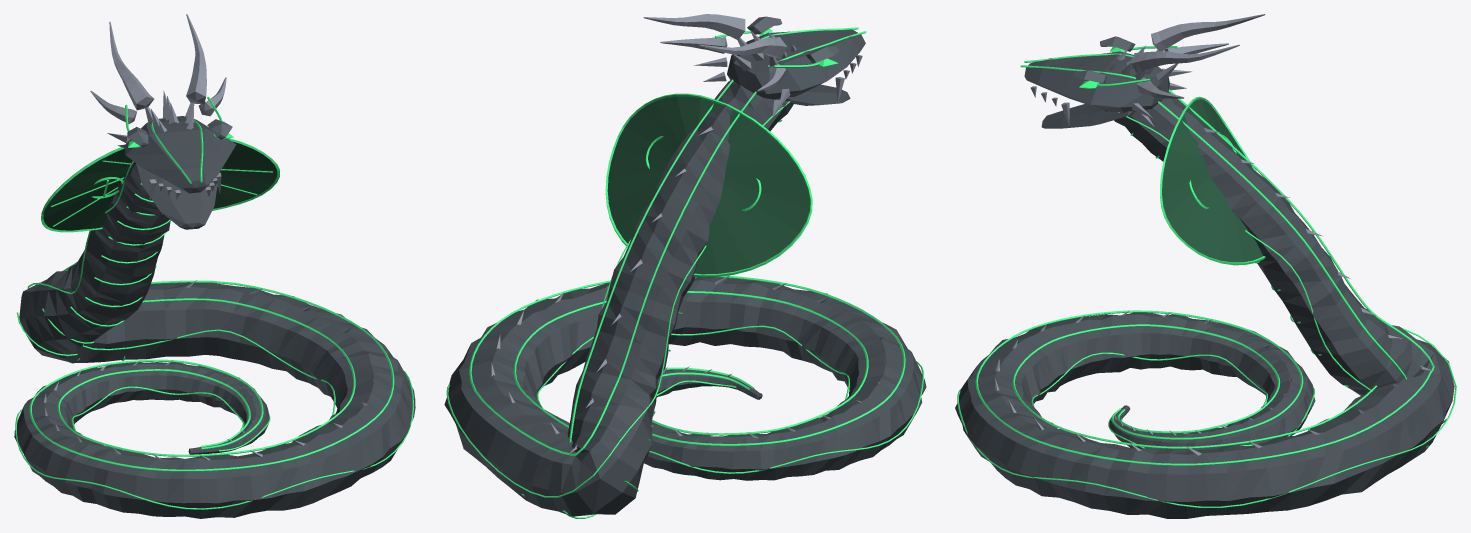
Rendered from Basilisco.obj.
The picture shows the model from 3 angles, left to right: view 1: azimuth 30°, elevation 25°; view 2: azimuth 150°, elevation 25°; view 3: azimuth 270°, elevation 25°; orthographic projection. The views are drawn at different scales.
Parts seen in each view (by area): view 1: Basilisco_Cuerpo, Basilisco_Brillo, Basilisco_Membrana, Basilisco_Hueso, Basilisco_Cuerpo2; view 2: Basilisco_Cuerpo, Basilisco_Membrana, Basilisco_Brillo, Basilisco_Hueso, Basilisco_Cuerpo2; view 3: Basilisco_Cuerpo, Basilisco_Brillo, Basilisco_Membrana, Basilisco_Hueso, Basilisco_Cuerpo2.
Part boxes in pixels (x1,y1,x2,y2): Basilisco_Cuerpo: [14, 116, 415, 518]; Basilisco_Brillo: [15, 97, 413, 509]; Basilisco_Membrana: [43, 141, 277, 230]; Basilisco_Hueso: [43, 14, 375, 460]; Basilisco_Cuerpo2: [127, 119, 232, 147]; Basilisco_Cuerpo: [444, 29, 926, 516]; Basilisco_Membrana: [607, 96, 809, 274]; Basilisco_Brillo: [446, 27, 923, 518]; Basilisco_Hueso: [491, 14, 887, 453]; Basilisco_Cuerpo2: [747, 16, 839, 63]; Basilisco_Cuerpo: [955, 51, 1454, 518]; Basilisco_Brillo: [957, 46, 1456, 507]; Basilisco_Membrana: [1162, 99, 1263, 262]; Basilisco_Hueso: [994, 14, 1432, 455]; Basilisco_Cuerpo2: [1072, 36, 1135, 83].
Size of the model in its own units: 3.54 by 3.67 by 4.11.
